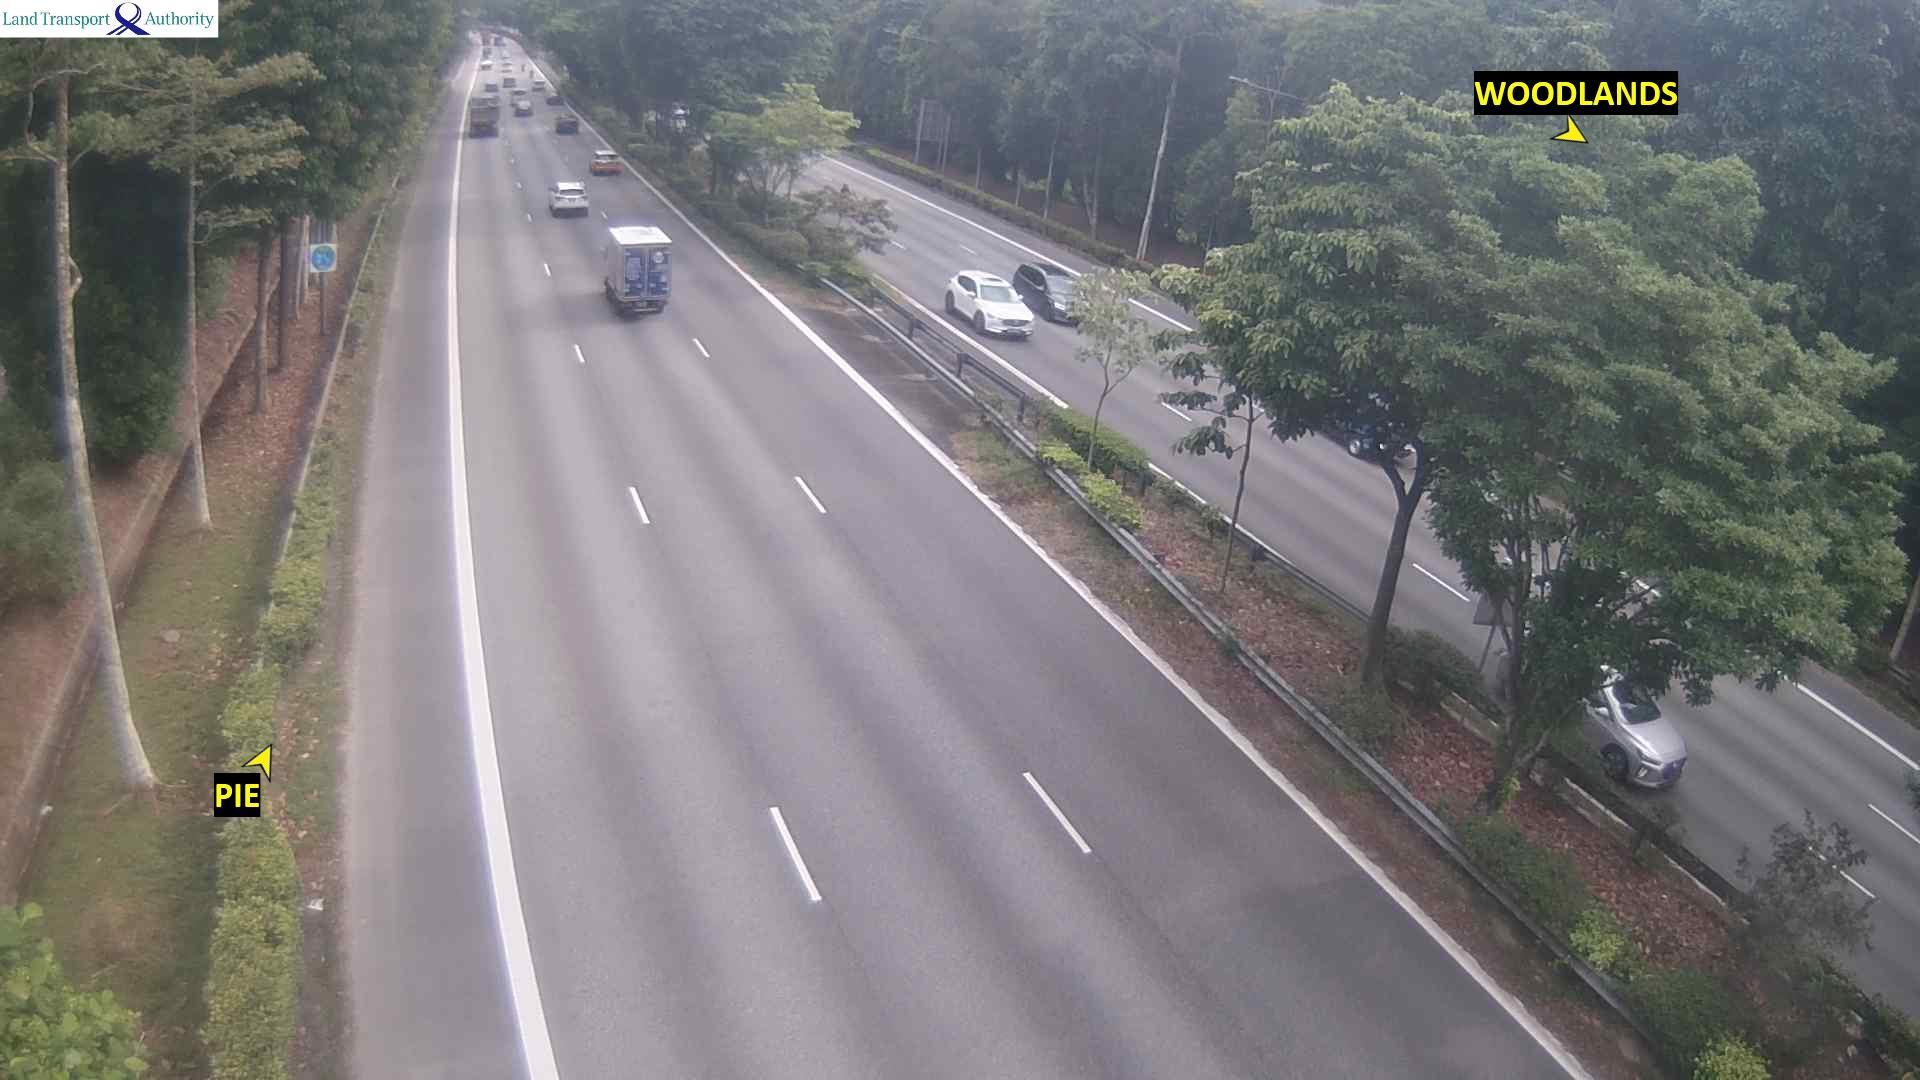incoming: (968, 282, 1037, 341)
